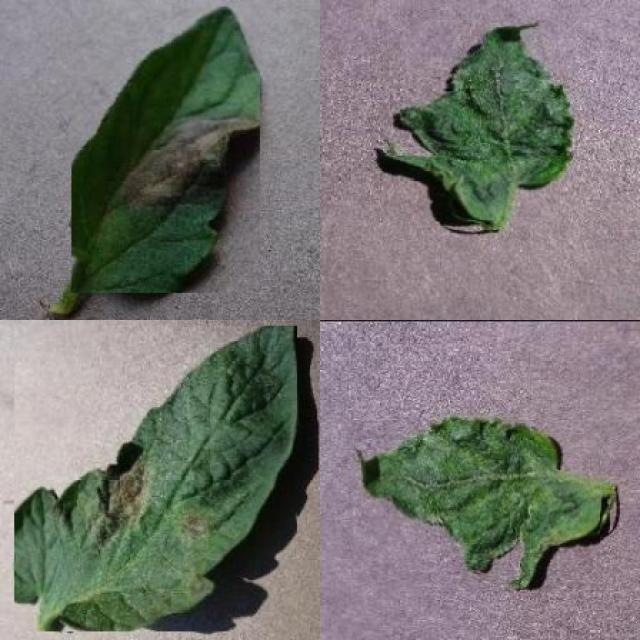Late Blight: (15, 327, 298, 632), (71, 5, 260, 294)
Mosaic Virus: (353, 415, 600, 591), (383, 20, 574, 221)
